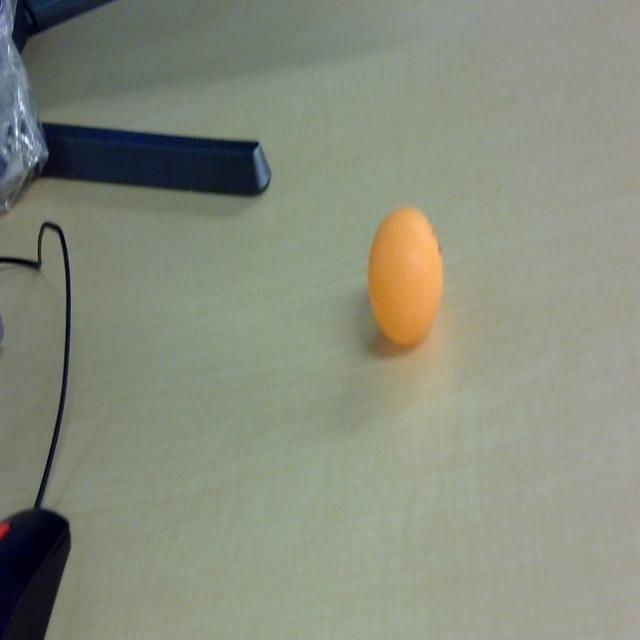ball: (365, 206, 444, 350)
